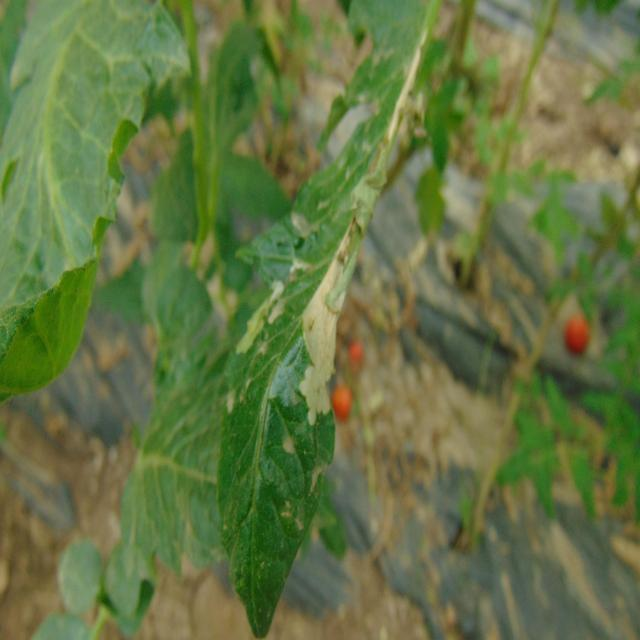Tuta absoluta: (278, 210, 375, 428)
